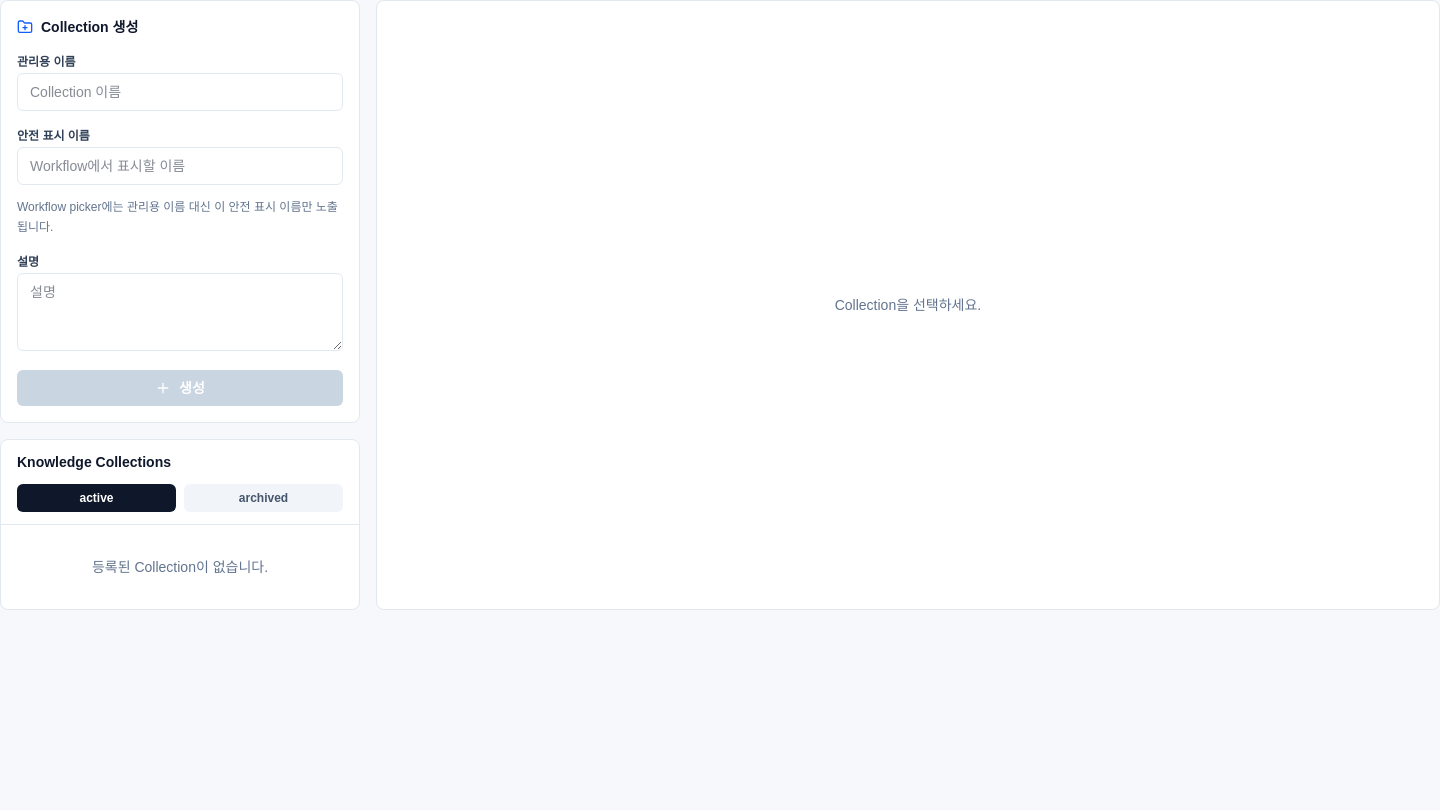
KnowledgeCollectionManager › fails closed when delegated capability refresh fails
Type "위임 Collection" into the field labelled "관리용 이름".
click(180, 92); type("위임 Collection")  # box [17, 73, 343, 111]
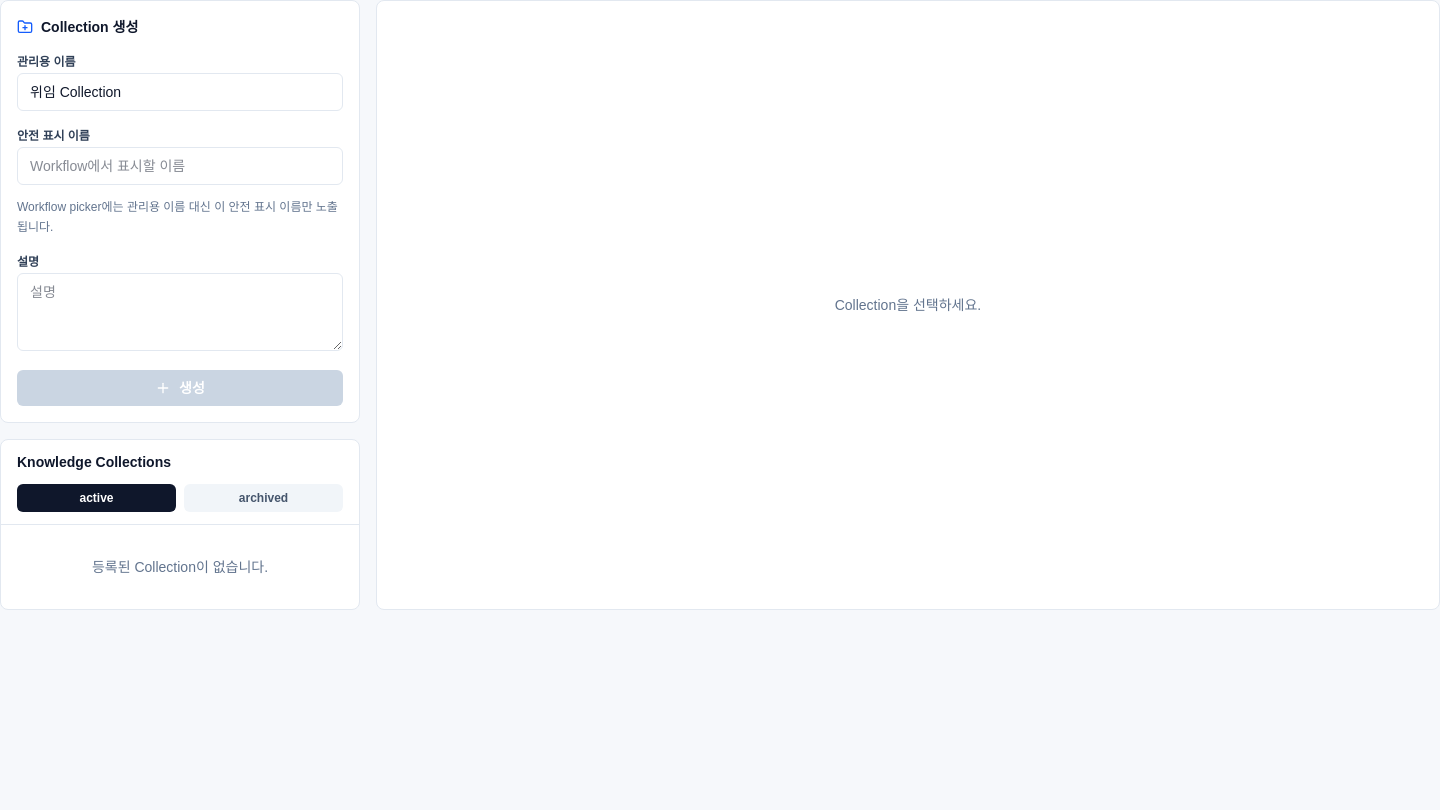
Type "안전한 표시 이름" into the field labelled "안전 표시 이름".
click(180, 166); type("안전한 표시 이름")  # box [17, 147, 343, 185]
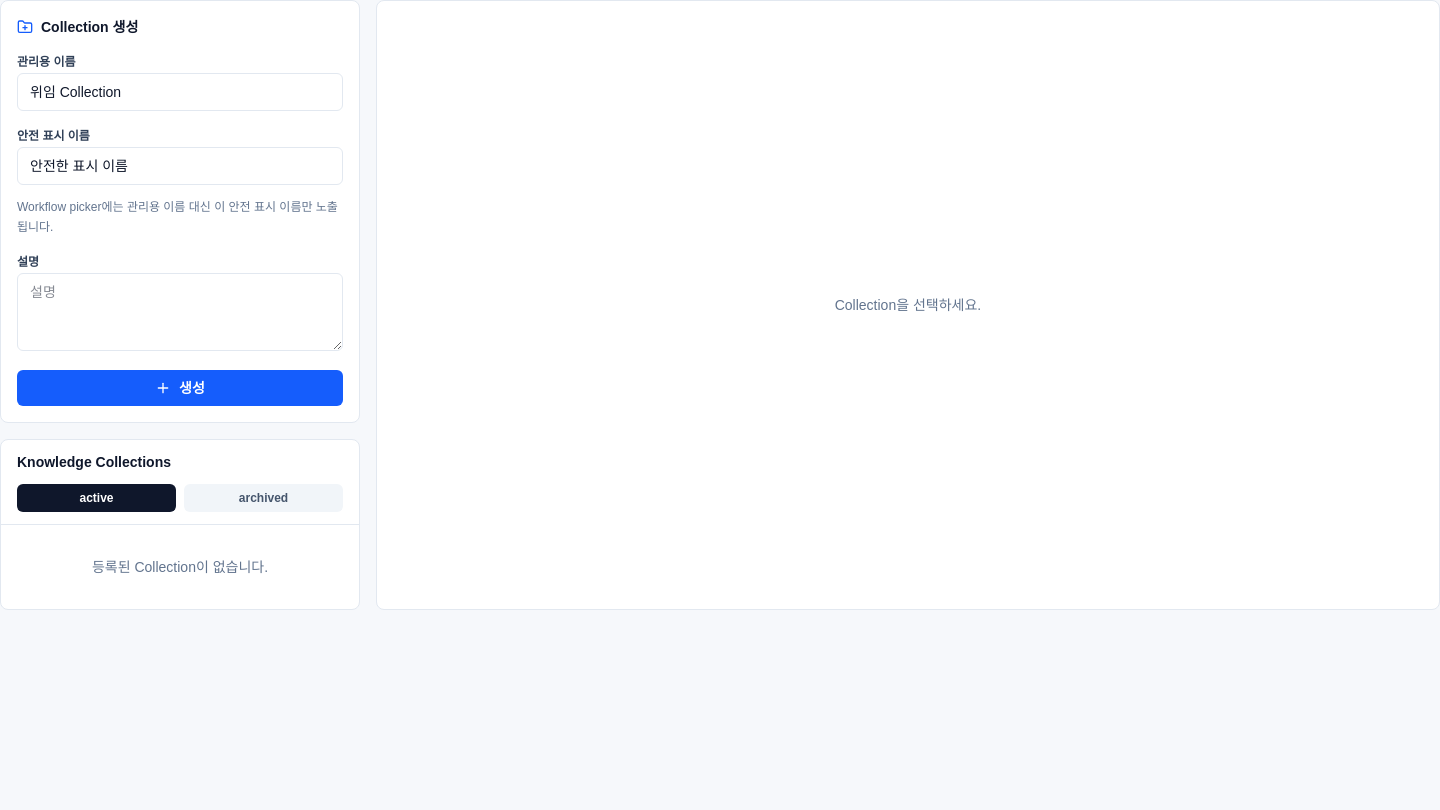
Click the button "생성".
click(180, 388)  # box [17, 370, 343, 406]
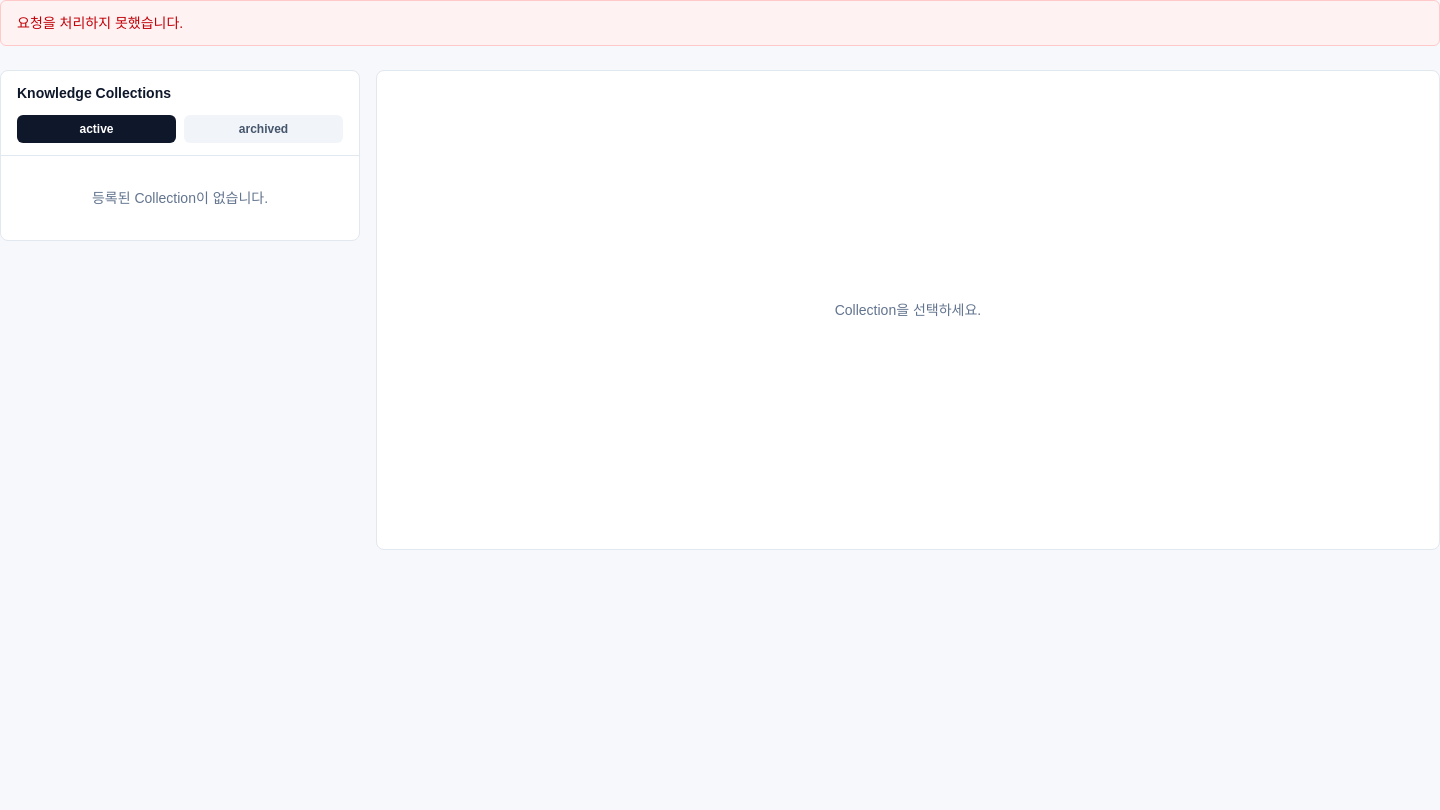
Now the text "요청을 처리하지 못했습니다." is shown, box [0, 0, 1439, 46]
Now the heading "Collection 생성" is gone
